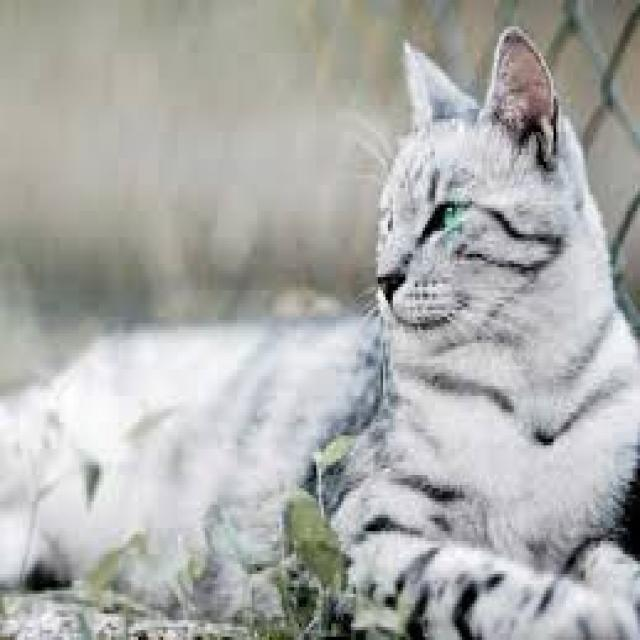Cat: (7, 22, 639, 634)
